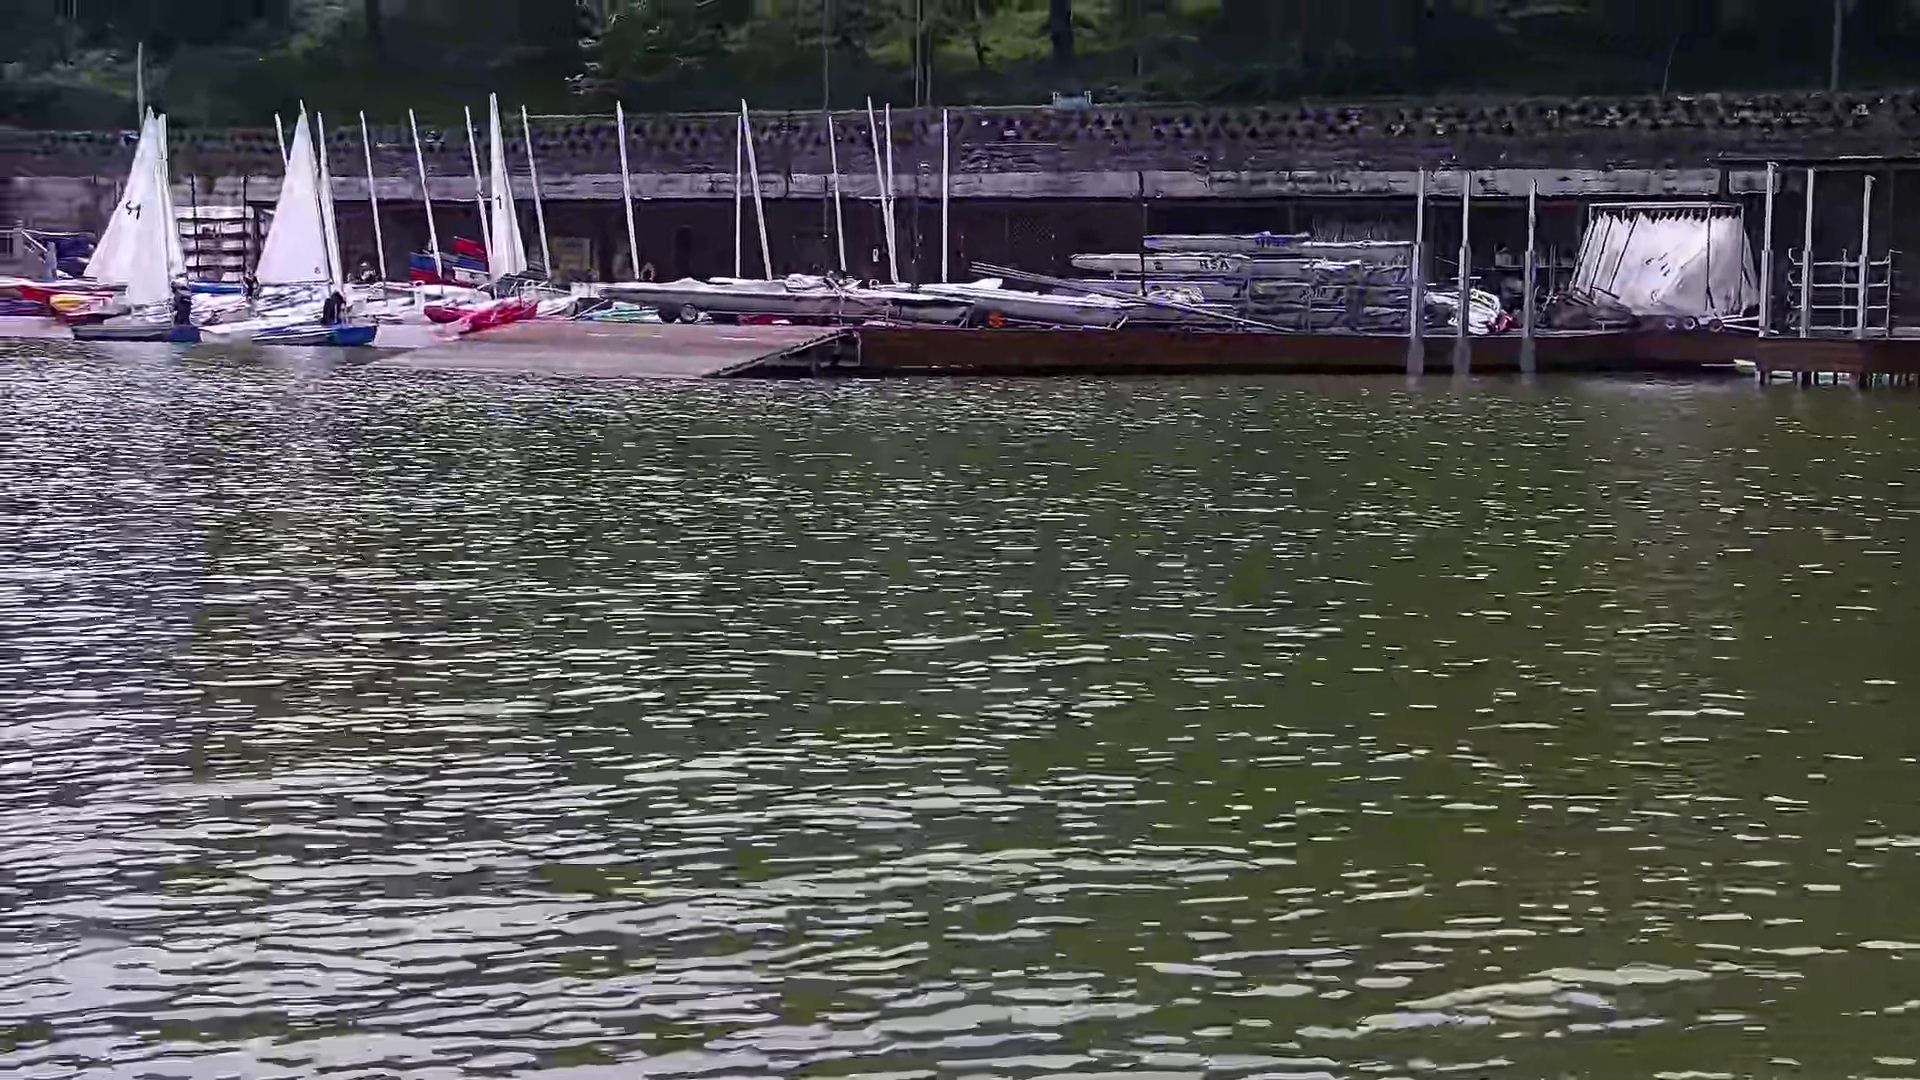harbor: (36, 203, 1865, 389)
